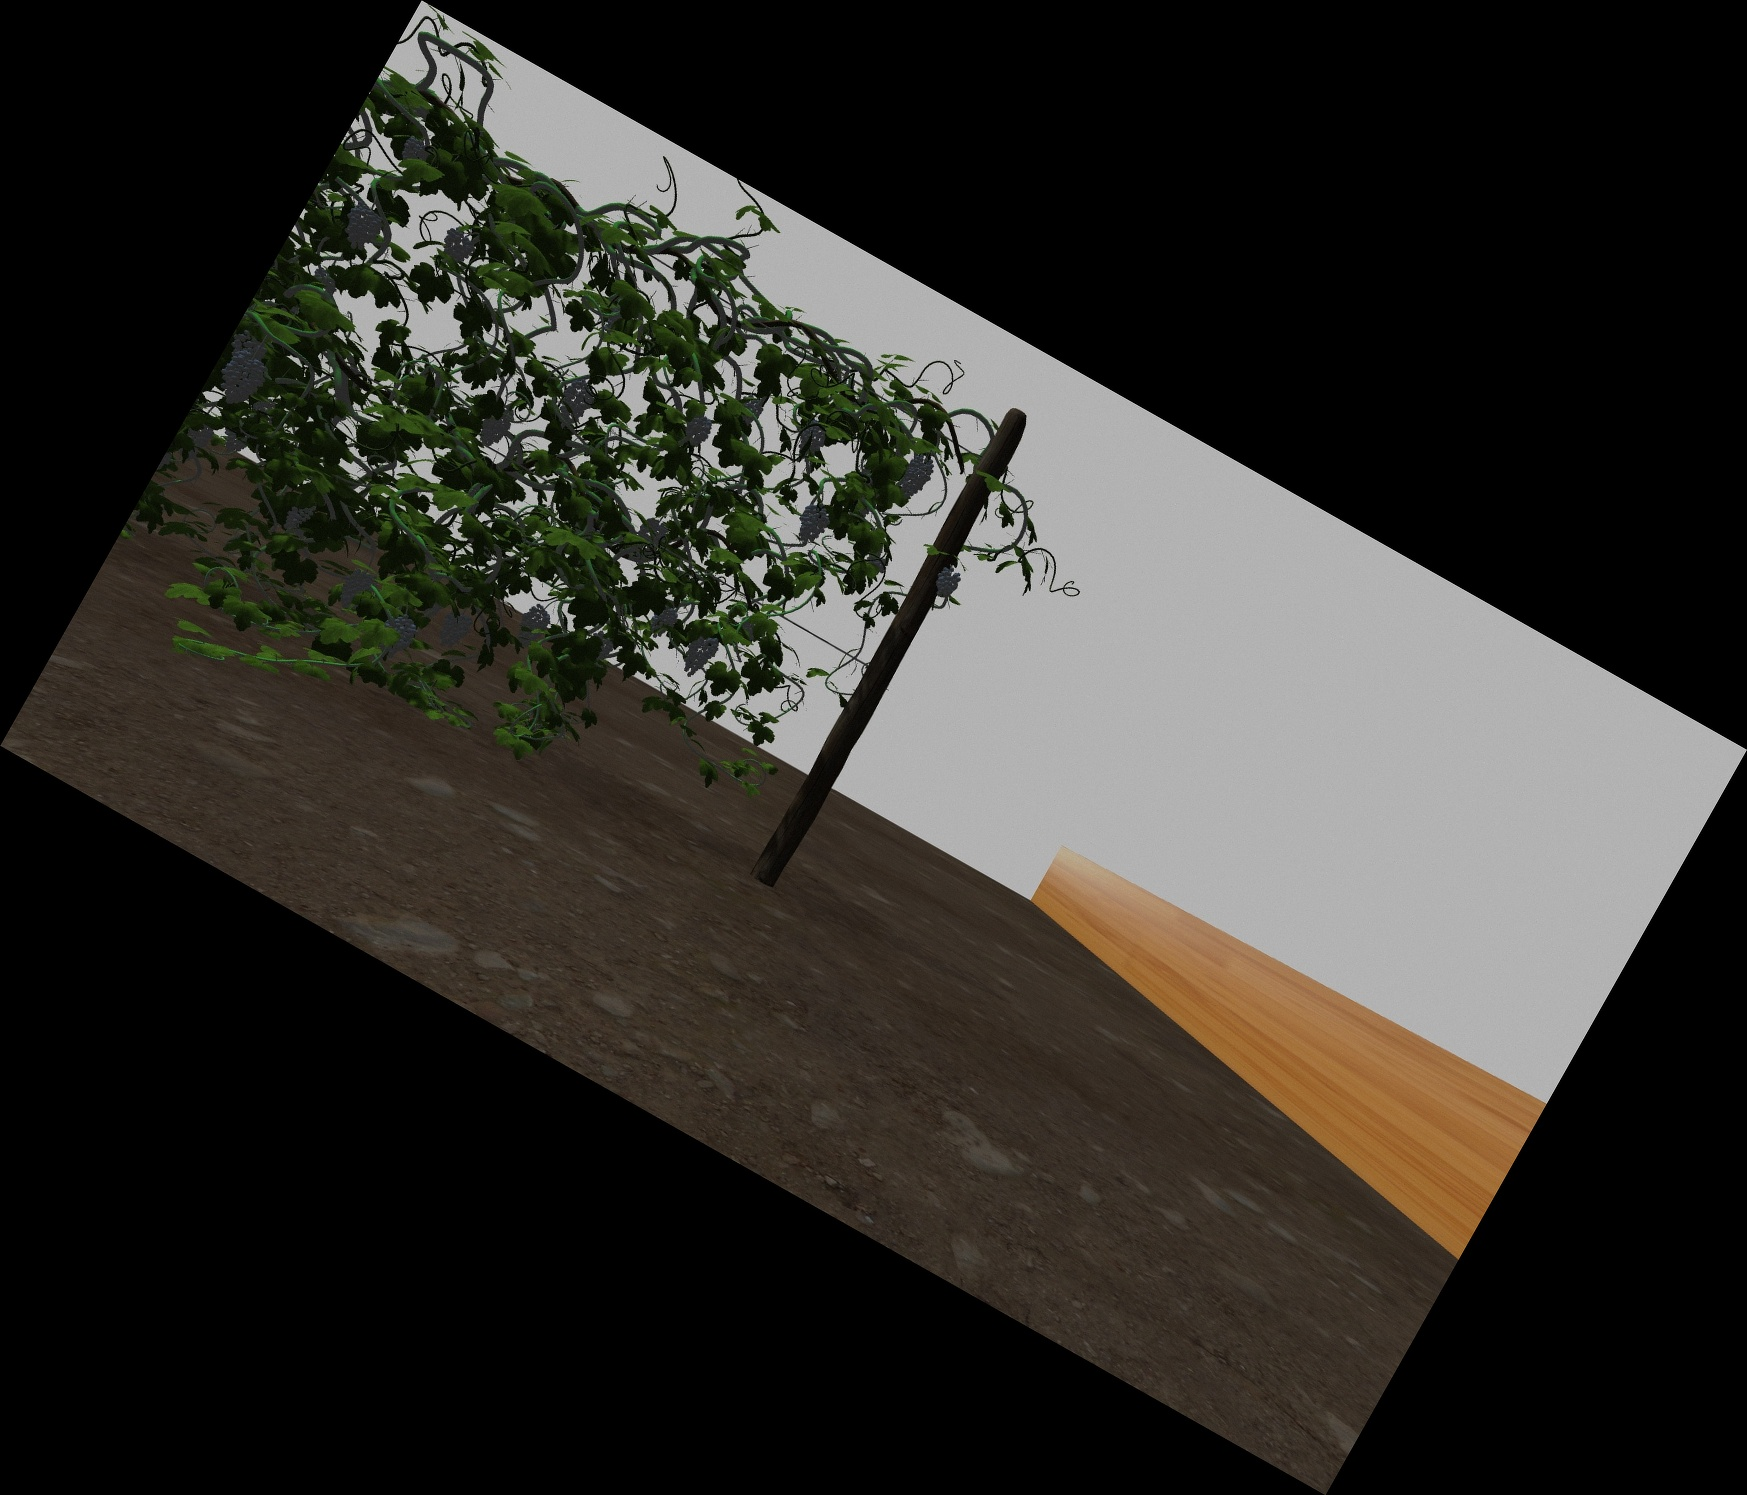grape: (224, 354, 258, 403), (346, 206, 378, 248), (519, 604, 546, 647), (383, 616, 412, 654), (688, 633, 713, 676), (796, 506, 825, 543), (564, 383, 592, 420), (443, 225, 473, 260), (905, 455, 930, 495), (483, 408, 509, 446), (440, 613, 467, 648), (343, 570, 368, 607), (288, 500, 311, 532), (934, 568, 958, 596), (687, 415, 709, 445), (799, 427, 822, 457), (651, 607, 673, 635), (403, 136, 426, 162), (740, 397, 762, 421)
